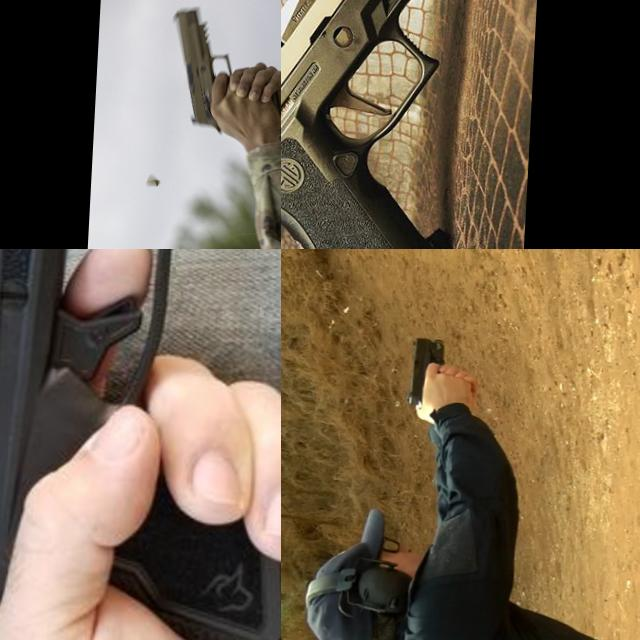handgun: (0, 249, 281, 640), (281, 0, 496, 249), (166, 2, 238, 138), (404, 332, 461, 412)
